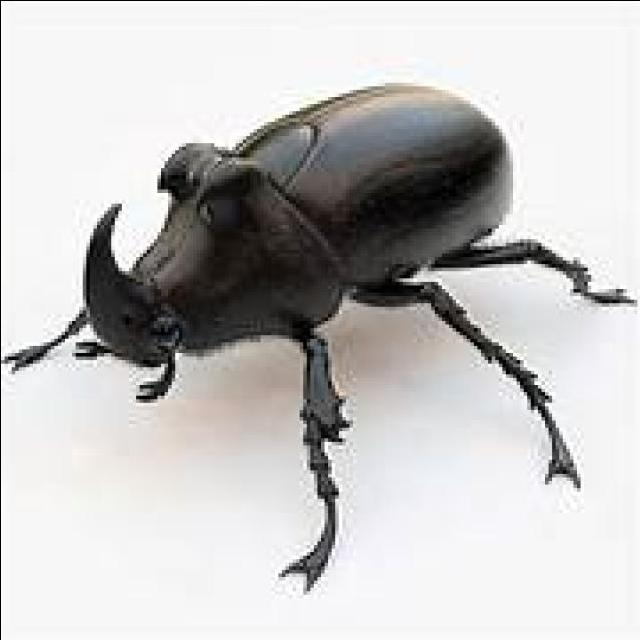Rhino-beetle: (34, 52, 610, 538)
